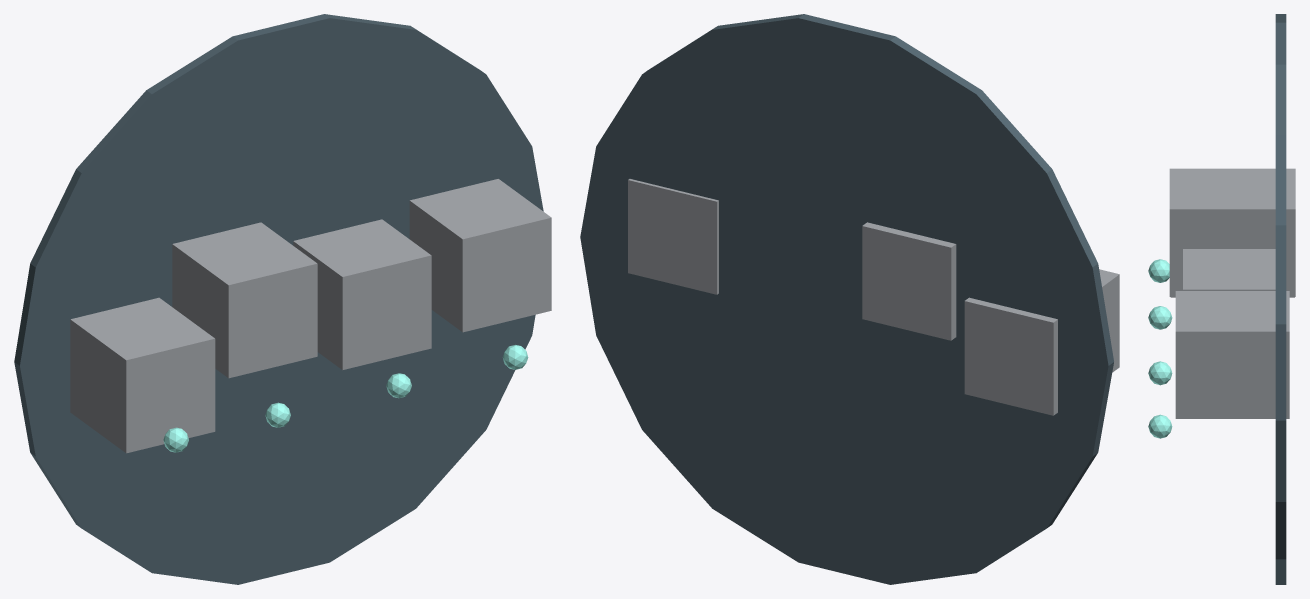
File: 03_ambient_object_cluster.glb
3 renders of one model, left to right at view 1: azimuth 30°, elevation 25°; view 2: azimuth 150°, elevation 25°; view 3: azimuth 270°, elevation 25°, orthographic. The views are drawn at different scales.
Visible parts, largest first — view 1: scatter_base, tech_crate_0, tech_crate_1, tech_crate_3, tech_crate_2; view 2: scatter_base, tech_crate_0, tech_crate_1, tech_crate_3; view 3: tech_crate_3, tech_crate_1, scatter_base, tech_crate_2, status_light_1, status_light_2, status_light_3, status_light_0.
Part boxes in pixels (x1,y1,x2,y2): scatter_base: [14, 14, 543, 584]; tech_crate_0: [70, 297, 215, 453]; tech_crate_1: [172, 222, 317, 378]; tech_crate_3: [409, 179, 551, 332]; tech_crate_2: [293, 219, 431, 370]; scatter_base: [580, 14, 1113, 584]; tech_crate_0: [964, 269, 1119, 415]; tech_crate_1: [862, 222, 956, 340]; tech_crate_3: [628, 179, 718, 294]; tech_crate_3: [1175, 291, 1289, 418]; tech_crate_1: [1169, 168, 1295, 296]; scatter_base: [1275, 14, 1286, 584]; tech_crate_2: [1183, 249, 1275, 290]; status_light_1: [1148, 306, 1172, 329]; status_light_2: [1148, 361, 1172, 385]; status_light_3: [1148, 414, 1172, 438]; status_light_0: [1148, 259, 1169, 282].
Size of the model in its own units: 1.9 by 1.87 by 0.4887.
